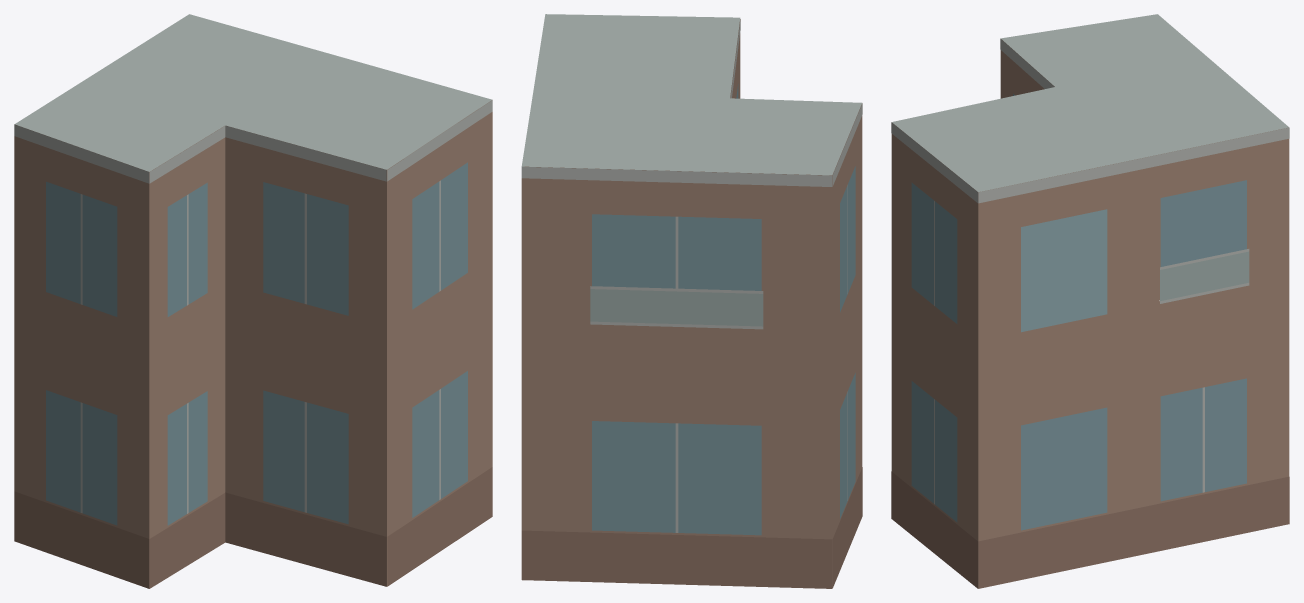
Rendered from survey-upis-32469897.glb.
3 views of the same model, side by side, from view 1: azimuth 30°, elevation 25°; view 2: azimuth 150°, elevation 25°; view 3: azimuth 270°, elevation 25° (orthographic). The views are drawn at different scales.
Visible parts, largest first — view 1: survey-upis-32469897.tmp; view 2: survey-upis-32469897.tmp; view 3: survey-upis-32469897.tmp.
Part boxes in pixels (<box>): survey-upis-32469897.tmp: <box>14,14,492,588</box>; survey-upis-32469897.tmp: <box>521,14,862,588</box>; survey-upis-32469897.tmp: <box>891,14,1289,588</box>.
Bounding box in the file's own units: 8.3 × 8.6 × 7.83.
